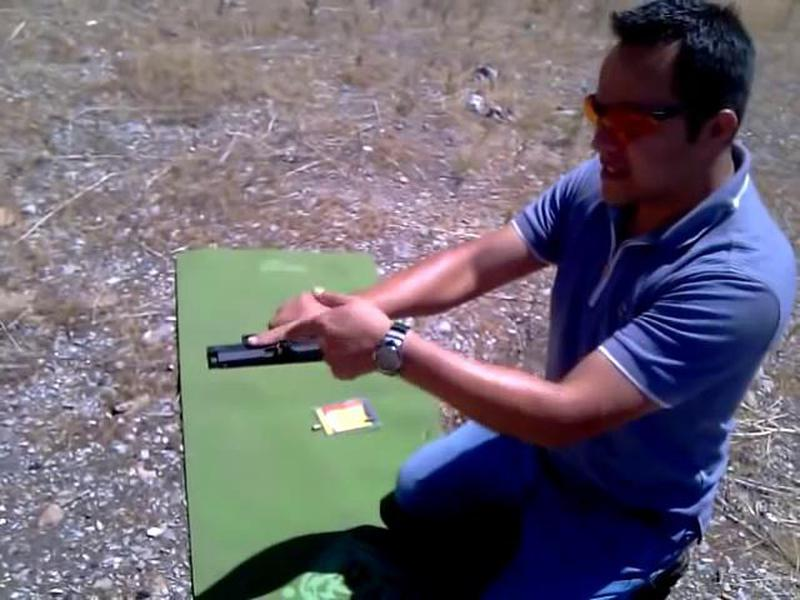Pistola: (198, 284, 321, 376)
